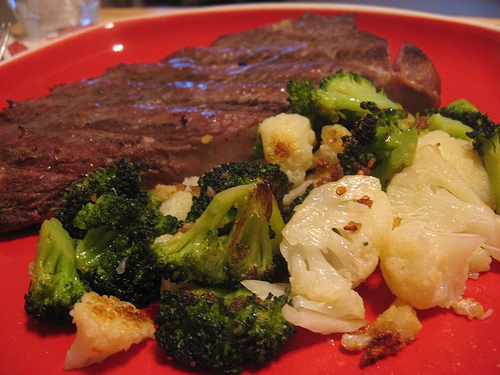cauliflower: (278, 174, 395, 336), (62, 289, 152, 370)
